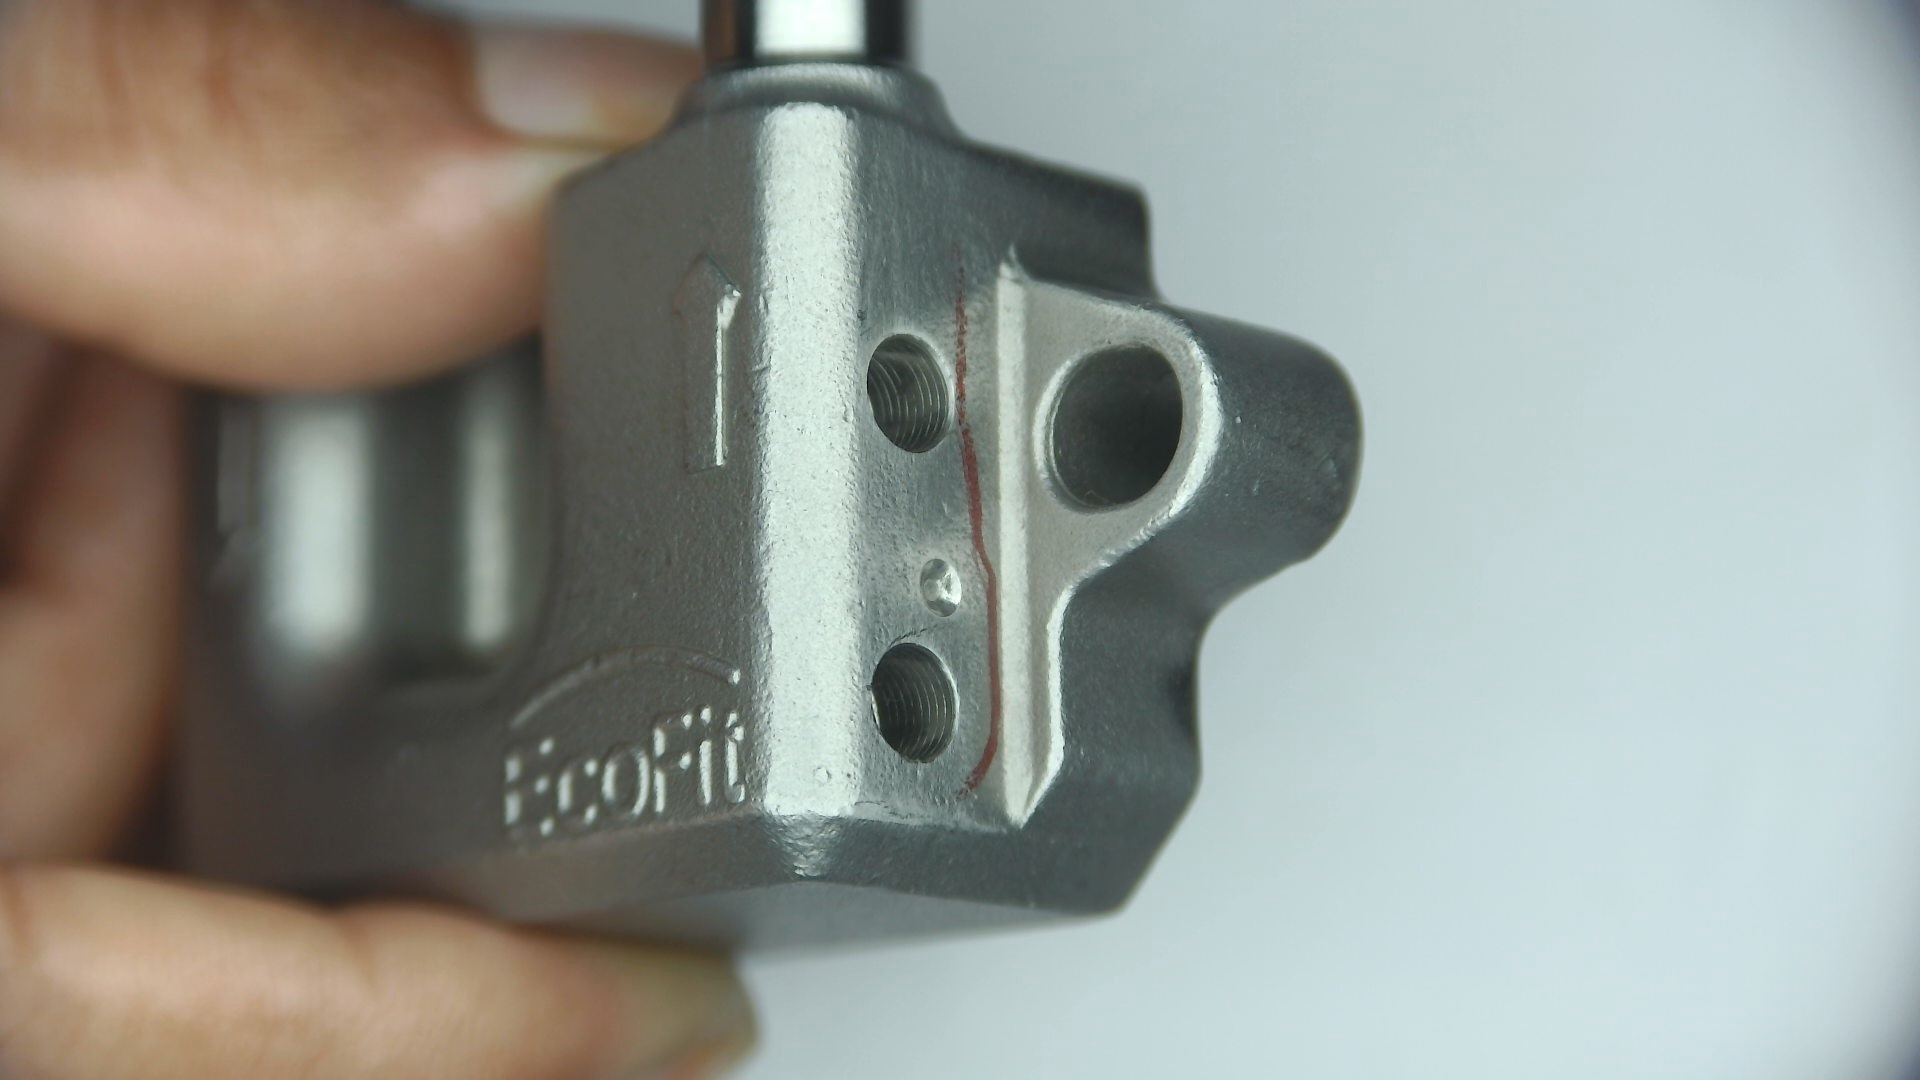thread_presence: (861, 626, 976, 771), (849, 320, 969, 454)
